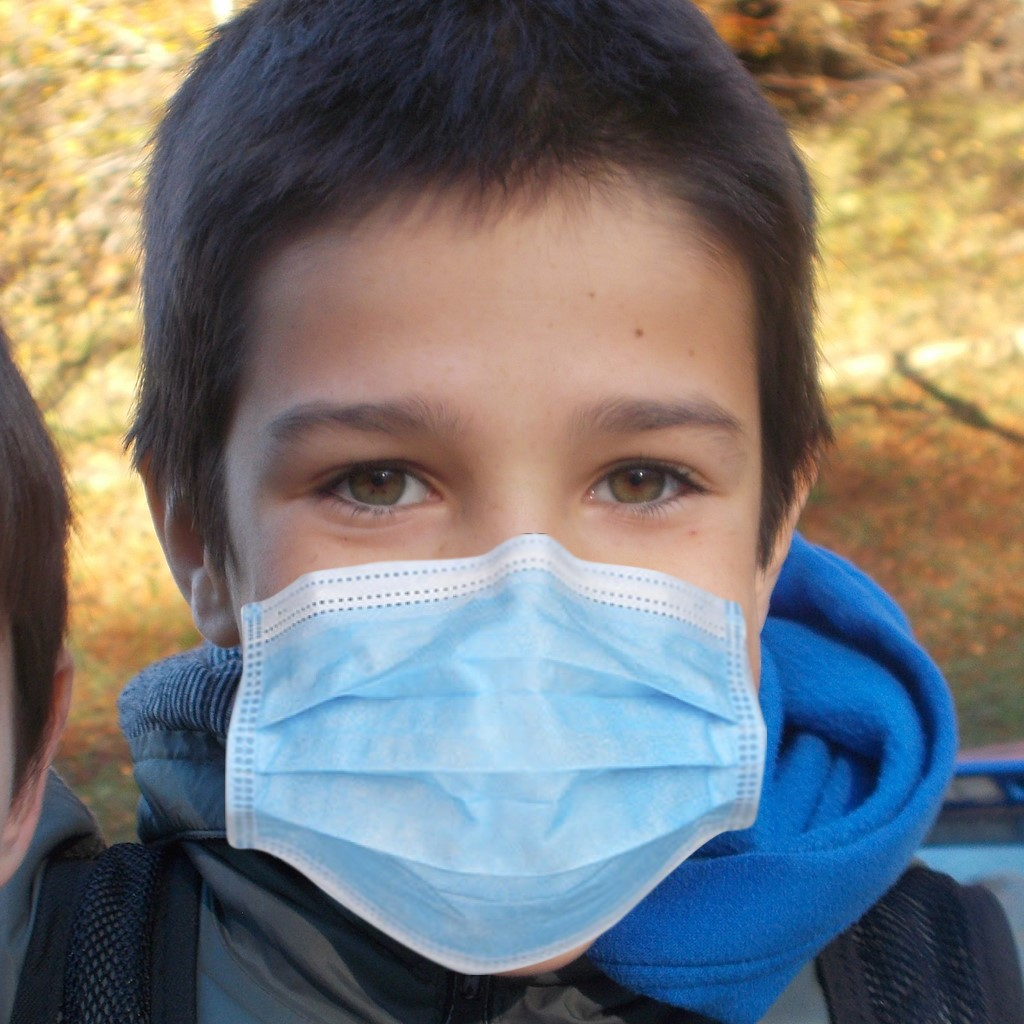con_mascara: (172, 137, 792, 965)
